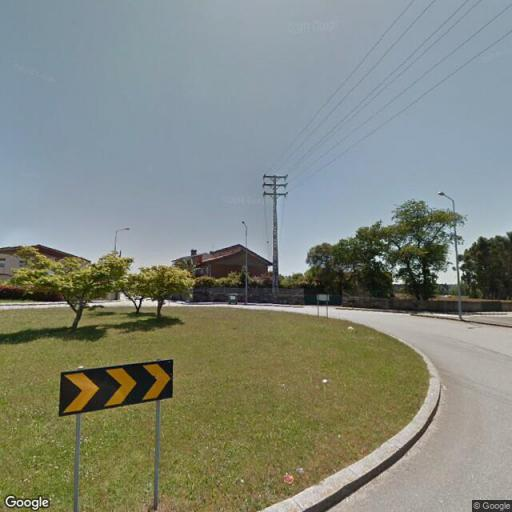mono_9: (262, 169, 289, 298)
